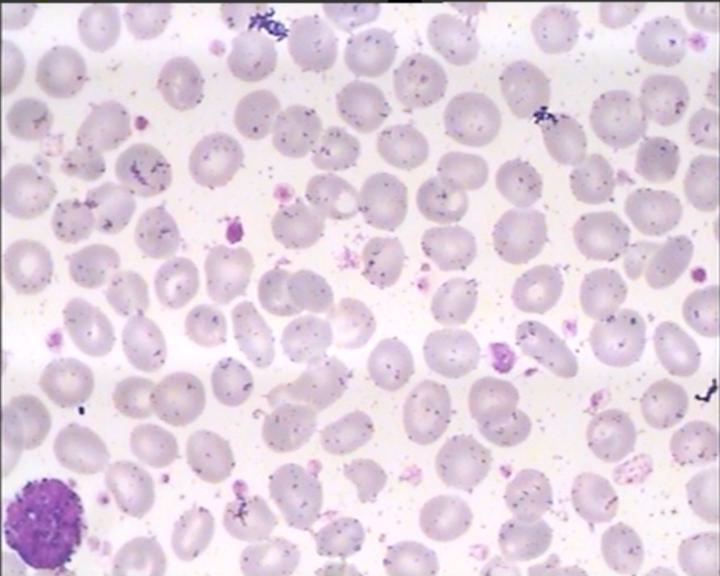baso: (2, 472, 94, 576)
